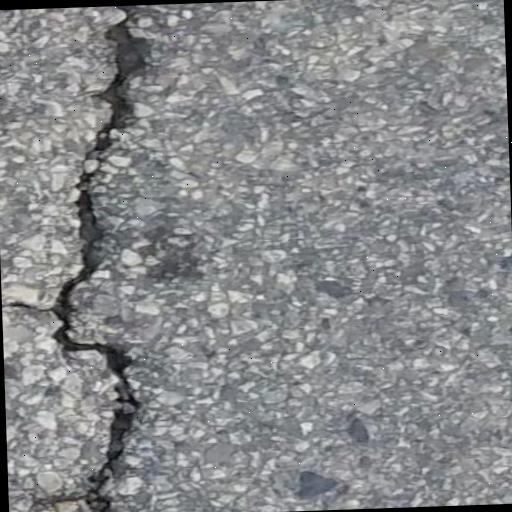spalling: (43, 5, 154, 512)
